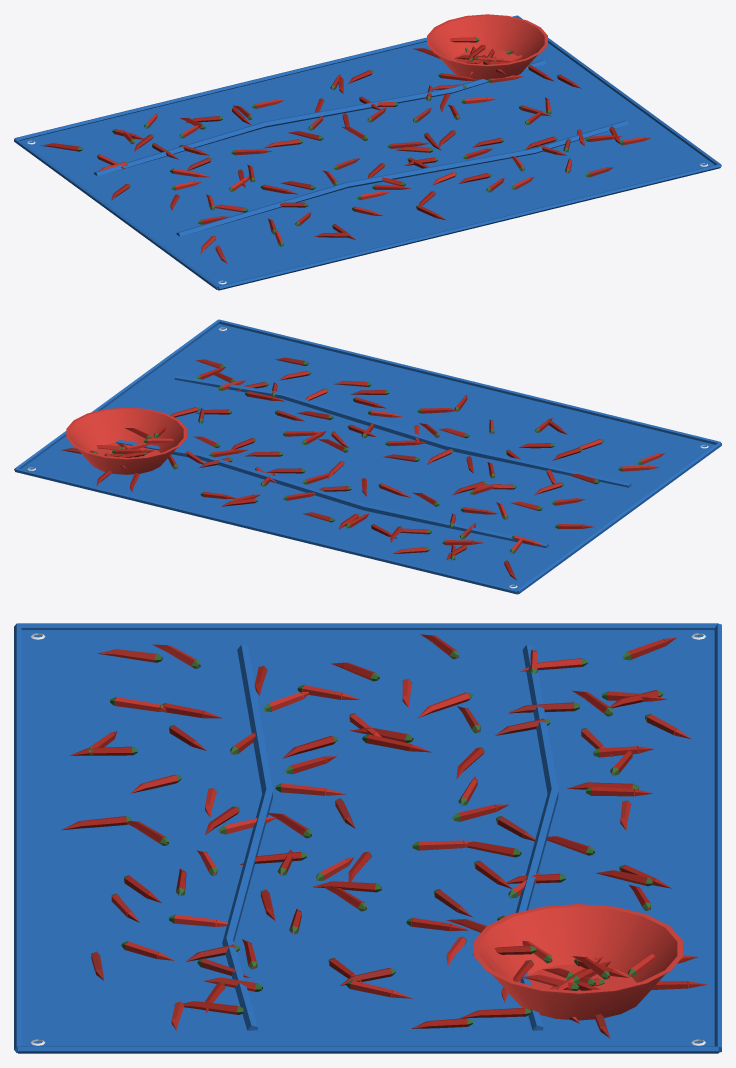
File: SC_Home_Pepper_Drying_Mat.gltf
3 views of the same model, one above another, from view 1: azimuth 30°, elevation 25°; view 2: azimuth 150°, elevation 25°; view 3: azimuth 270°, elevation 25° (orthographic). The views are drawn at different scales.
Parts seen in each view (by area): view 1: SC_Home_Pepper_Drying_Mat; view 2: SC_Home_Pepper_Drying_Mat; view 3: SC_Home_Pepper_Drying_Mat.
Part boxes in pixels (x1=…): SC_Home_Pepper_Drying_Mat: x1=14, y1=14, x2=721, y2=290; SC_Home_Pepper_Drying_Mat: x1=14, y1=319, x2=721, y2=594; SC_Home_Pepper_Drying_Mat: x1=14, y1=623, x2=721, y2=1053.
Size of the model in its own units: 2.01 by 0.1074 by 1.41.
1 material, 1 textured.
